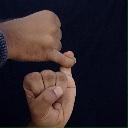hand: (0, 9, 77, 67), (23, 51, 76, 126)
